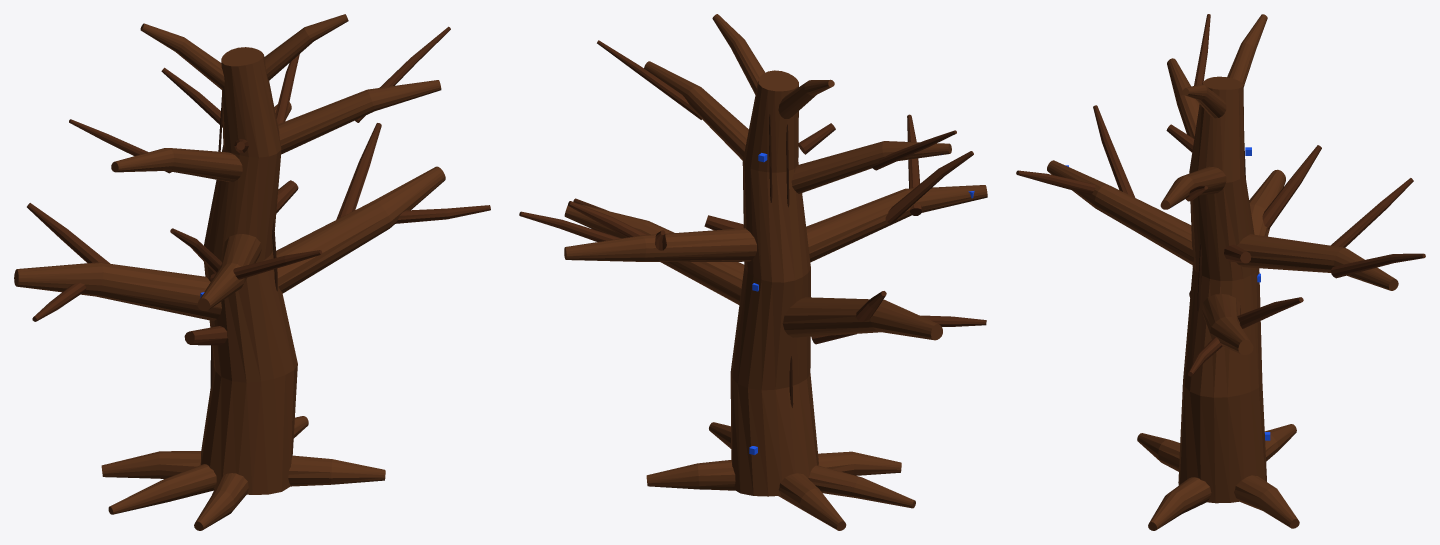
File: bare_squirrel_climbing_tree.obj
3 renders of one model, left to right at view 1: azimuth 30°, elevation 25°; view 2: azimuth 150°, elevation 25°; view 3: azimuth 270°, elevation 25°, orthographic. The views are drawn at different scales.
Parts seen in each view (by area): view 1: Trunk_main_broad_slightly_twisted, Branch_A_left_low_wide_climbable, Branch_B_right_low_wide_climbable, Branch_F_upper_right_reaching, Branch_E_upper_left_reaching, Root_long_side, Root_back_right, Branch_C_back_sweeping_runway, Root_front_left, Branch_H_top_split_right, Branch_G_top_split_left, Root_back_left (+11 smaller); view 2: Trunk_main_broad_slightly_twisted, Branch_D_front_sweeping_runway, Branch_A_left_low_wide_climbable, Branch_C_back_sweeping_runway, Branch_E_upper_left_reaching, Branch_B_right_low_wide_climbable, Branch_F_upper_right_reaching, Root_long_side, Root_front_right, Root_front_left, Root_back_left, Branch_H_top_split_right (+7 smaller); view 3: Trunk_main_broad_slightly_twisted, Branch_C_back_sweeping_runway, Branch_D_front_sweeping_runway, Branch_B_right_low_wide_climbable, Root_front_right, Root_back_right, Branch_F_upper_right_reaching, Branch_E_upper_left_reaching, Branch_A_left_low_wide_climbable, Fork_A1_left_branch_upspur, Branch_G_top_split_left, Fork_D1_front_branch_leftfork (+8 smaller).
Boxes of the visible parts, box(x1,y1,x2,y2) form: Trunk_main_broad_slightly_twisted: box(200, 47, 297, 494); Branch_A_left_low_wide_climbable: box(14, 262, 221, 321); Branch_B_right_low_wide_climbable: box(276, 166, 445, 293); Branch_F_upper_right_reaching: box(278, 80, 441, 154); Branch_E_upper_left_reaching: box(111, 148, 242, 181); Root_long_side: box(108, 464, 216, 514); Root_back_right: box(288, 455, 385, 486); Branch_C_back_sweeping_runway: box(197, 234, 261, 310); Root_front_left: box(101, 451, 200, 479); Branch_H_top_split_right: box(264, 14, 348, 80); Branch_G_top_split_left: box(140, 23, 224, 90); Root_back_left: box(194, 473, 248, 530); Trunk_main_broad_slightly_twisted: box(730, 70, 818, 496); Branch_D_front_sweeping_runway: box(564, 228, 756, 261); Branch_A_left_low_wide_climbable: box(782, 297, 942, 340); Branch_C_back_sweeping_runway: box(806, 185, 987, 262); Branch_E_upper_left_reaching: box(791, 141, 951, 193); Branch_B_right_low_wide_climbable: box(564, 204, 744, 304); Branch_F_upper_right_reaching: box(644, 61, 748, 160); Root_long_side: box(808, 465, 915, 508); Root_front_right: box(646, 460, 735, 490); Root_front_left: box(778, 473, 846, 530); Root_back_left: box(818, 451, 901, 475); Branch_H_top_split_right: box(712, 14, 765, 94); Trunk_main_broad_slightly_twisted: box(1178, 76, 1266, 503); Branch_C_back_sweeping_runway: box(1047, 160, 1193, 264); Branch_D_front_sweeping_runway: box(1236, 234, 1398, 290); Branch_B_right_low_wide_climbable: box(1202, 294, 1253, 354); Root_front_right: box(1234, 475, 1299, 528); Root_back_right: box(1148, 477, 1211, 530); Branch_F_upper_right_reaching: box(1160, 166, 1226, 209); Branch_E_upper_left_reaching: box(1167, 58, 1199, 138); Branch_A_left_low_wide_climbable: box(1249, 169, 1285, 236); Fork_A1_left_branch_upspur: box(1262, 145, 1321, 229); Branch_G_top_split_left: box(1227, 14, 1267, 86); Fork_D1_front_branch_leftfork: box(1330, 178, 1413, 247).
Size of the model in its own units: 5.27 by 5.28 by 4.44.
